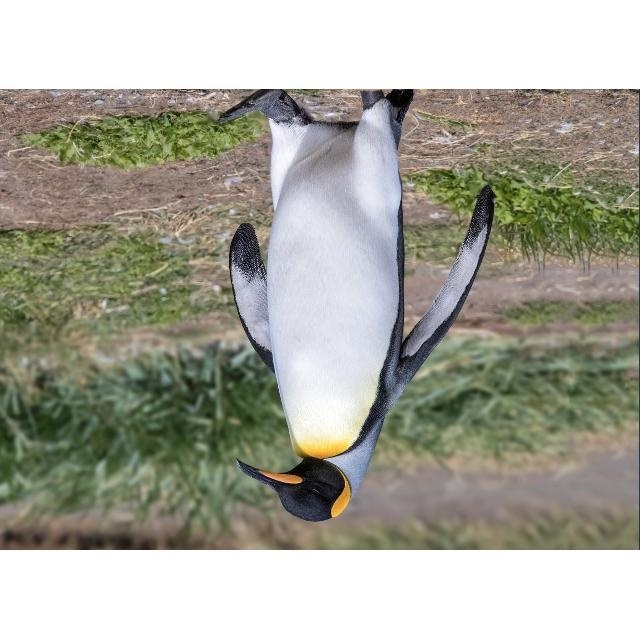penguin: (219, 91, 496, 524)
